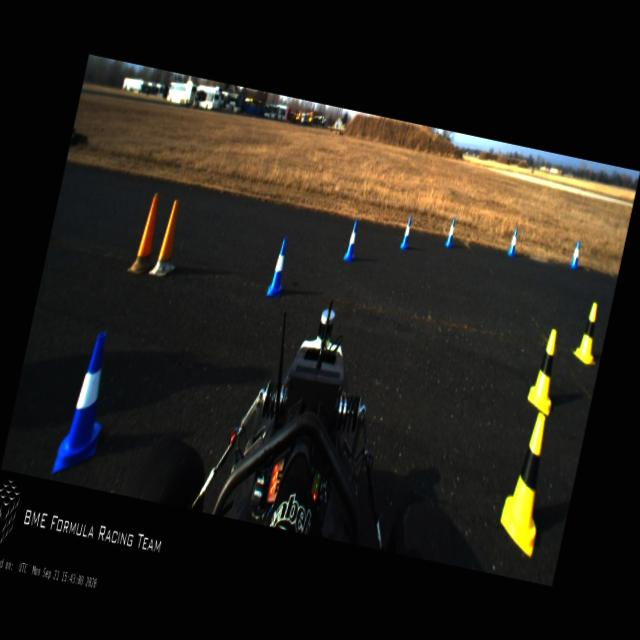blue_cone: (50, 328, 120, 482), (266, 236, 292, 298), (342, 219, 362, 263), (398, 214, 414, 250), (442, 217, 458, 248), (506, 228, 520, 258), (568, 240, 582, 268)
unknown_cone: (126, 190, 168, 276), (148, 196, 190, 280)
yellow_cone: (493, 408, 562, 556), (524, 325, 568, 416), (570, 300, 608, 366)
